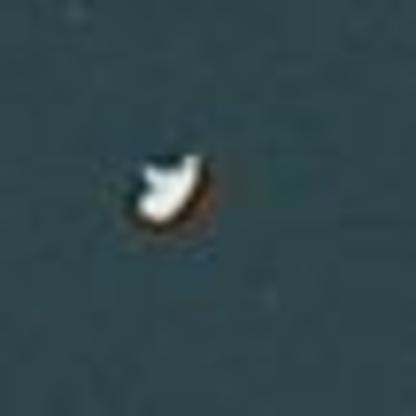ship: (117, 145, 216, 230)
